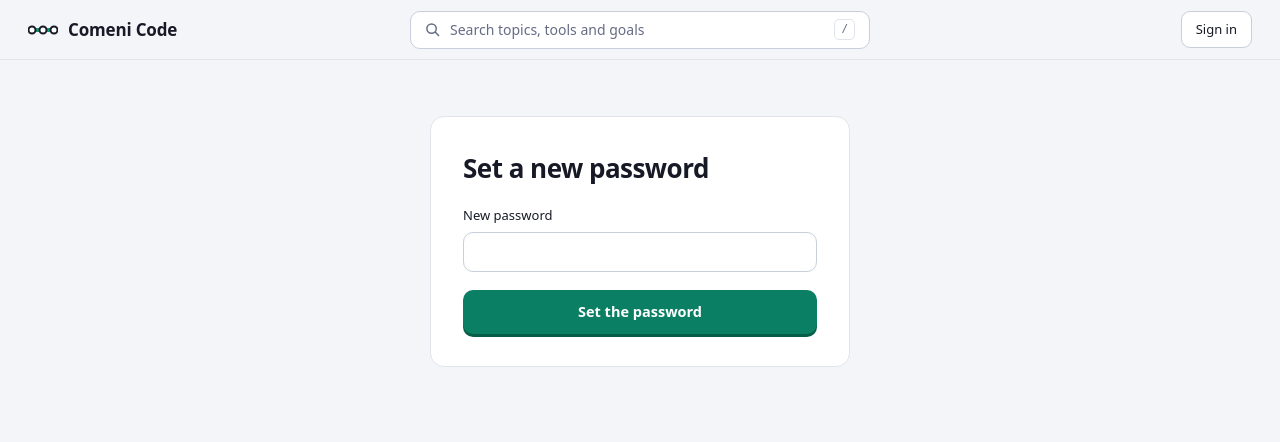
resetting a password › shows why a link no longer works
This screenshot has width=1280, height=442.
Type "pw" into the password field labelled "New password". click: (640, 252)
box: left=463, top=232, right=817, bottom=272
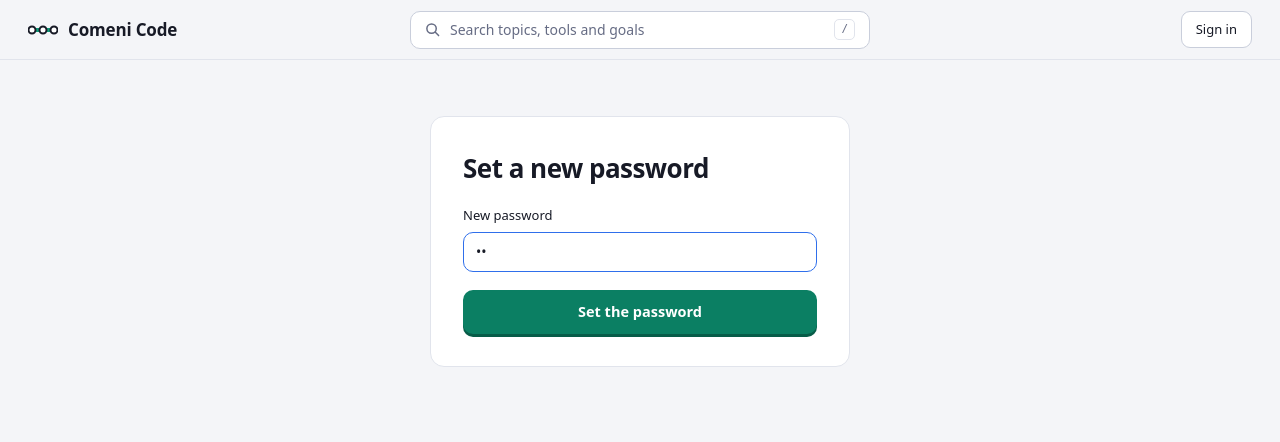
Click the button "Set the password". click: (640, 312)
box: left=463, top=290, right=817, bottom=334
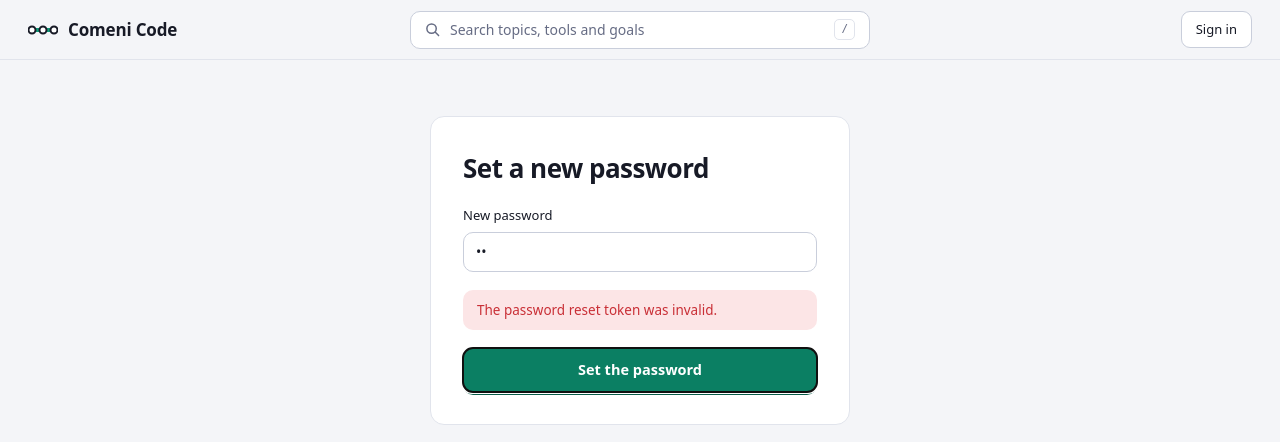
Result: the text "The password reset token was invalid." is shown at left=463, top=290, right=817, bottom=330
